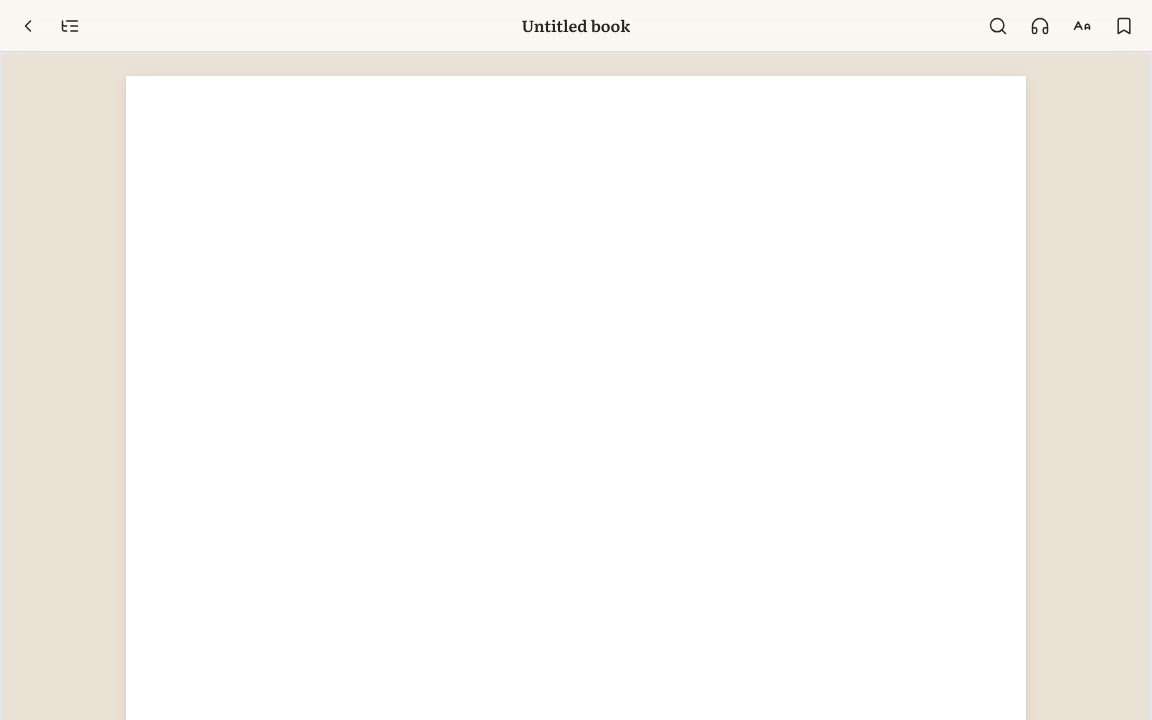
Test: ReaderView bookmarks › marks the current page and lists it with its page number
The image size is (1152, 720).
Click the button named "Bookmark this page" at (1124, 26), box [1104,6,1144,46]
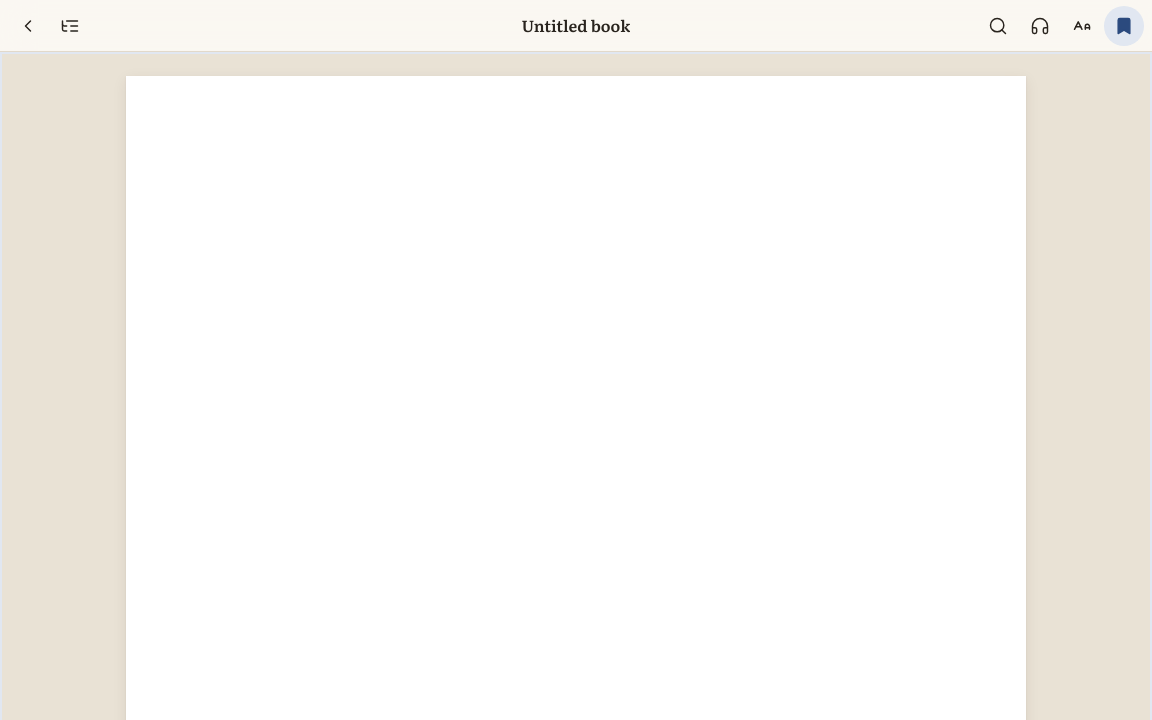
Result: the button named "Remove bookmark" has class "is-pressed" at [1104,6,1144,46]
Click the button named "Contents" at (70, 26), box [50,6,90,46]
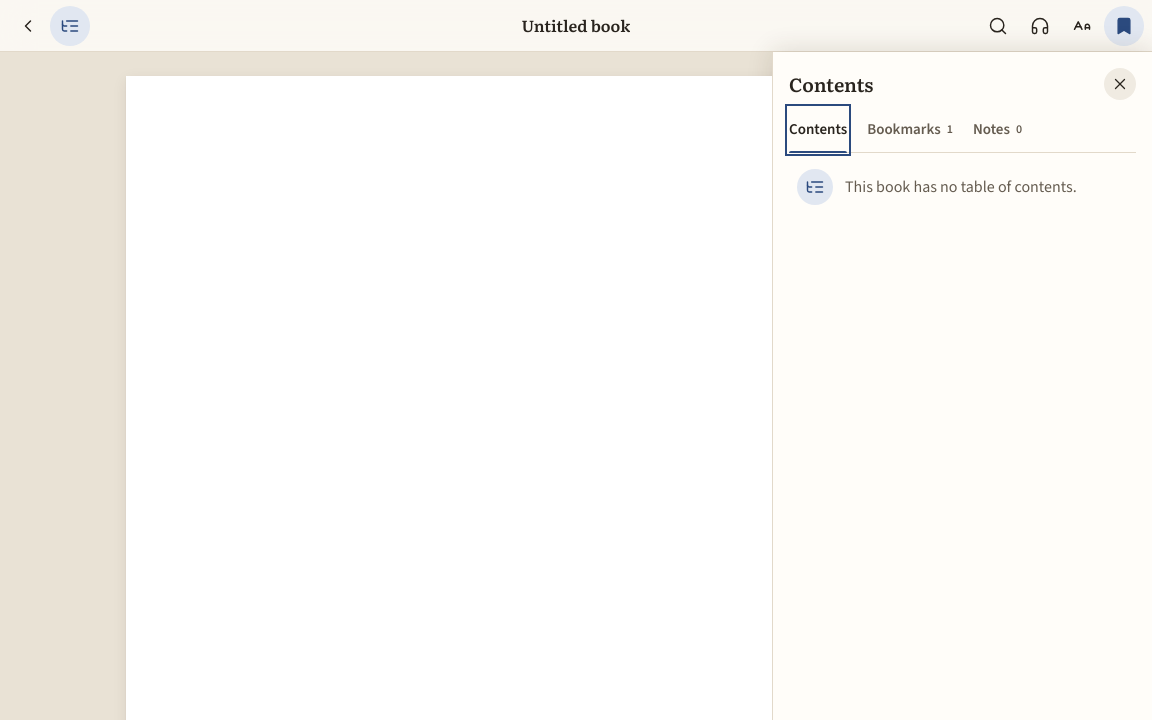
Click the tab "Bookmarks 1" at (910, 130), box [867,108,953,152]
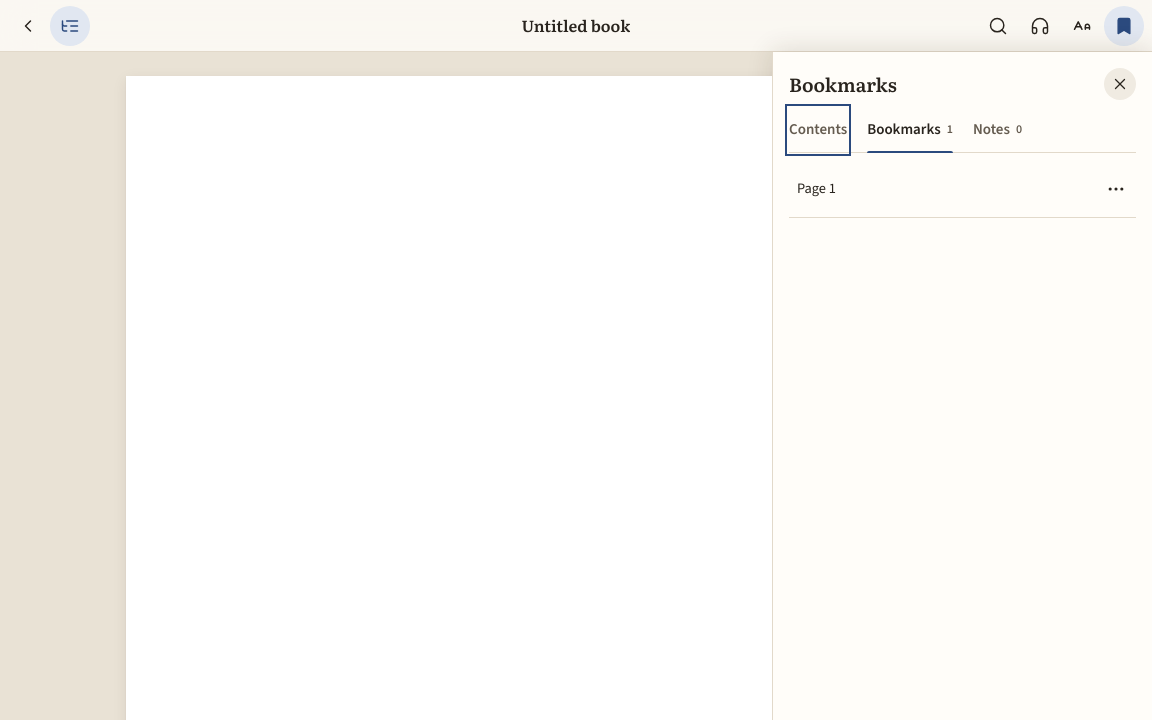
Result: the button "Page 1" is shown at [789,172,1092,206]
